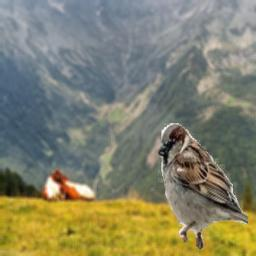Sparrow: (157, 123, 248, 253)
